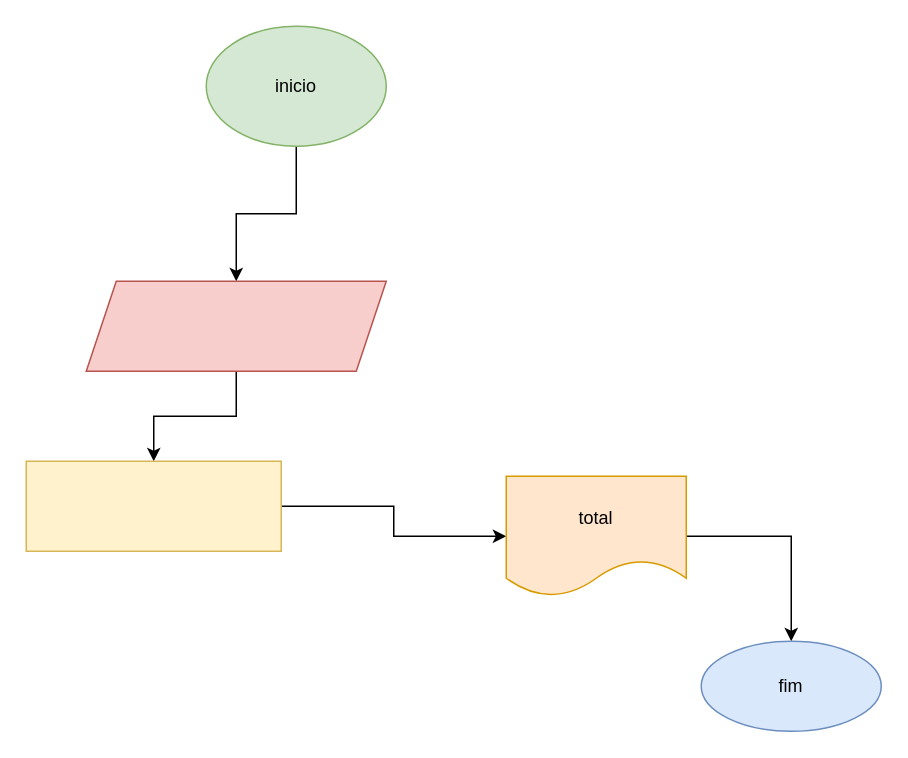
This 908x758 diagram has some shape labels left out. Each missing label, with the centre of its shape:
"carro <-(km/ato)*preco total <-carro*2" belongs at (153,505).
"km,preco,carro,total" belongs at (235,325).
